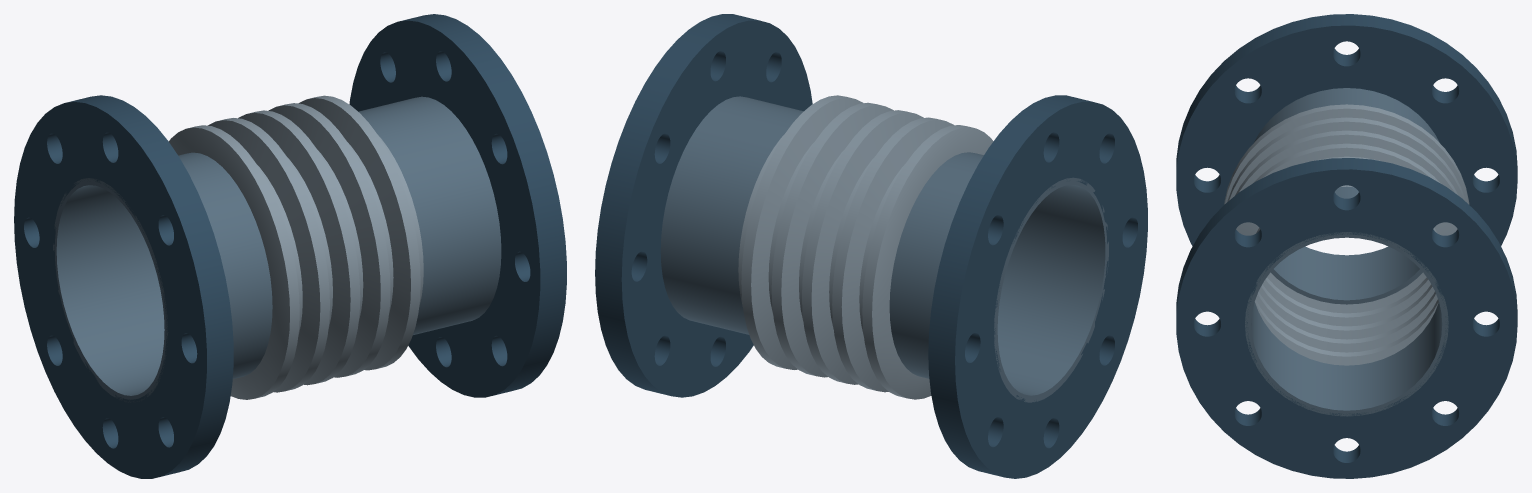
File: silf-dn125-L240-D133-f.glb
3 renders of one model, left to right at view 1: azimuth 30°, elevation 25°; view 2: azimuth 150°, elevation 25°; view 3: azimuth 270°, elevation 25°, orthographic. The views are drawn at different scales.
Visible parts, largest first — view 1: homut_flanec_1, prokladka_silfon_1, homut_flanec_2, patrubok_1, patrubok_2; view 2: homut_flanec_1, prokladka_silfon_1, homut_flanec_2, patrubok_1, patrubok_2; view 3: homut_flanec_2, homut_flanec_1, prokladka_silfon_1, patrubok_2, patrubok_1.
Boxes of the visible parts, x1,y1,x2,y2 form: homut_flanec_1: (14,95,233,478); prokladka_silfon_1: (169,95,423,399); homut_flanec_2: (349,14,566,397); patrubok_1: (53,152,272,402); patrubok_2: (358,96,501,334); homut_flanec_1: (928,95,1147,478); prokladka_silfon_1: (738,95,993,399); homut_flanec_2: (595,14,812,397); patrubok_1: (889,152,1108,402); patrubok_2: (660,96,803,334); homut_flanec_2: (1176,158,1517,478); homut_flanec_1: (1176,14,1517,245); prokladka_silfon_1: (1224,104,1469,365); patrubok_2: (1245,186,1448,416); patrubok_1: (1254,88,1439,304).
Bounding box in the file's own units: 240 × 223 × 223.
